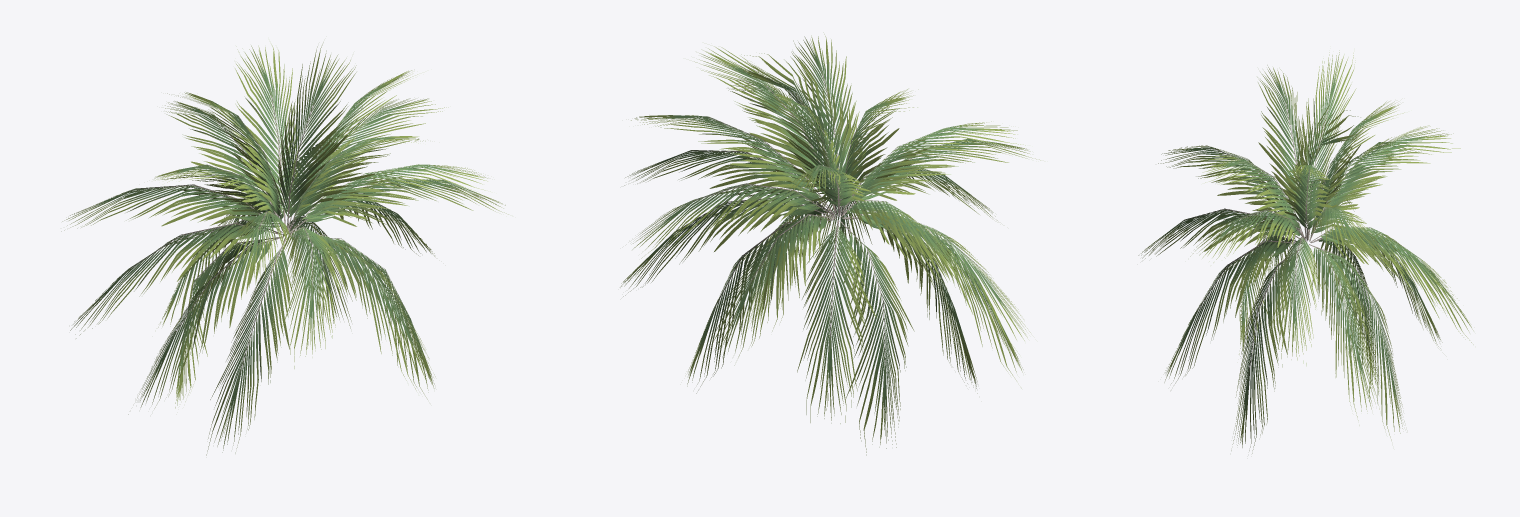
Rendered from m_palm_p2_1_leaf_0.001_lev2.glb.
3 views of the same model, side by side, from view 1: azimuth 30°, elevation 25°; view 2: azimuth 150°, elevation 25°; view 3: azimuth 270°, elevation 25° (orthographic). The views are drawn at different scales.
Visible parts, largest first — view 1: m_palm_p2_1_leaf_0.001_lev2; view 2: m_palm_p2_1_leaf_0.001_lev2; view 3: m_palm_p2_1_leaf_0.001_lev2.
Part boxes in pixels (left/top/right/bottom): m_palm_p2_1_leaf_0.001_lev2: left=61, top=42, right=508, bottom=455; m_palm_p2_1_leaf_0.001_lev2: left=620, top=32, right=1040, bottom=455; m_palm_p2_1_leaf_0.001_lev2: left=1138, top=50, right=1473, bottom=453.
Size of the model in its own units: 4.19 by 3.21 by 3.02.
1 material, 1 textured.
